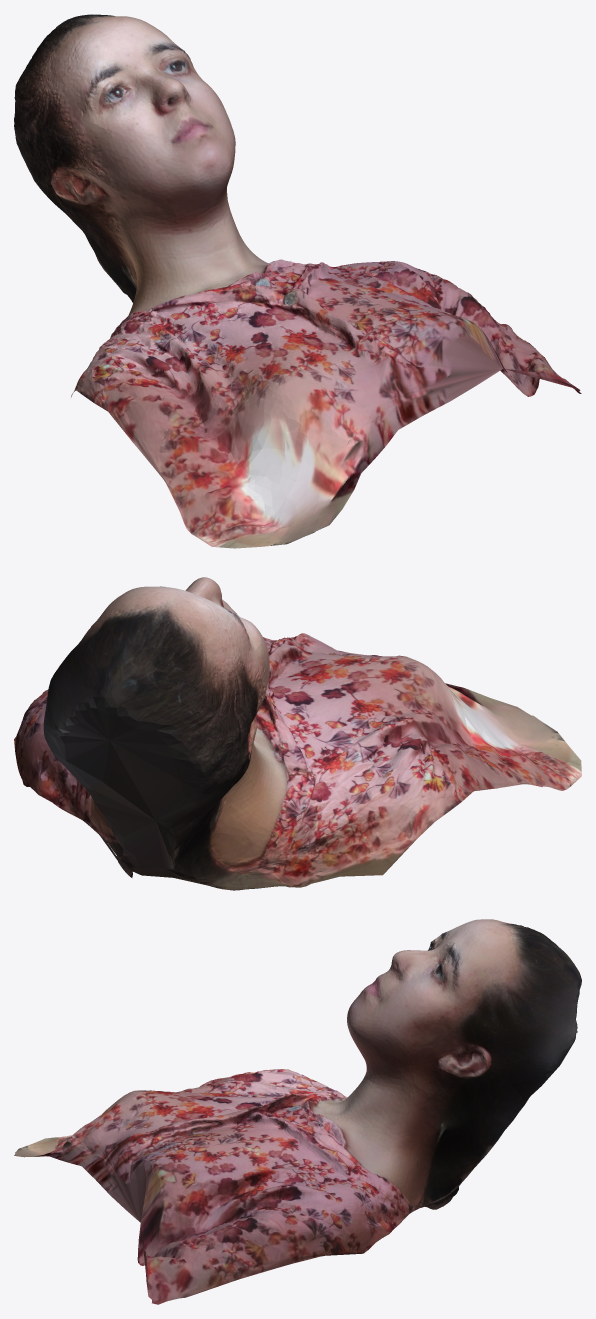
3 views of the same model, one above another, from view 1: azimuth 30°, elevation 25°; view 2: azimuth 150°, elevation 25°; view 3: azimuth 270°, elevation 25° (orthographic). The views are drawn at different scales.
Bounding box in the file's own units: 0.97 × 0.6802 × 1.29.
1 material, 1 textured.
